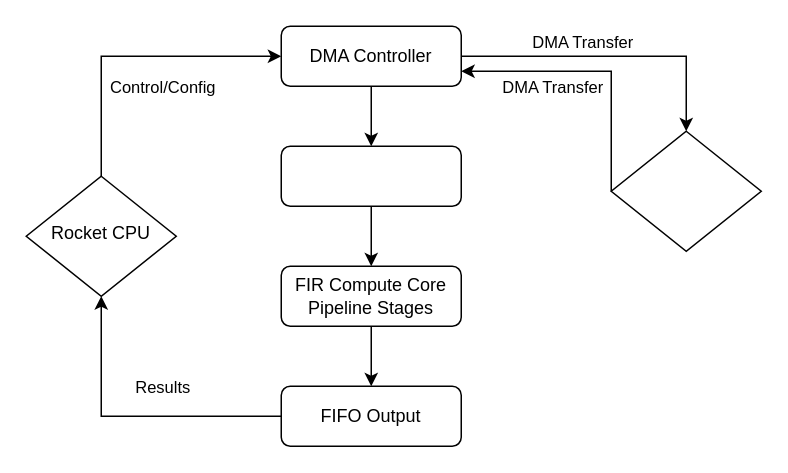
Some shapes in this 788 by 473 pixel diagram are drawn without their labels. The shapes that lost their labels are listed below. From the top down, each one's box as (x1, y1, x2, y2) in pixels, then its label:
(280, 145, 461, 206): Sliding Window Buffer
(610, 130, 761, 251): Main Memory
